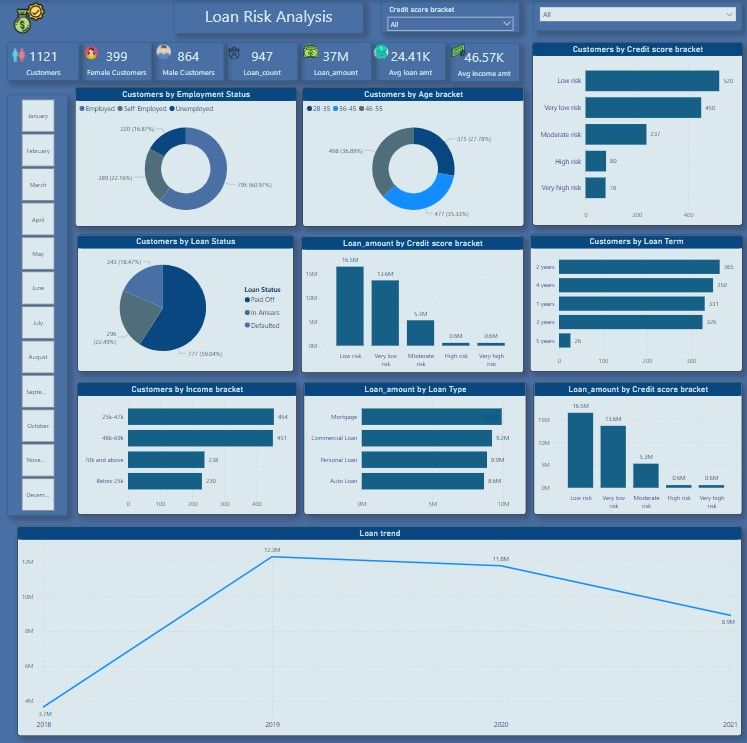

Layout of this report page (visuals, bound fields, positions):
{"tool":"powerbi","page":{"name":"Daiz Bank","canvas":[1500,1500],"ordinal":0},"visuals":[{"type":"donutChart","fields":{"Category":["loan dataset.Employment Status"],"Y":["loan measures.Customers"]},"box":[150,181.7,443.3,278.3],"z":0},{"type":"barChart","fields":{"Y":["loan measures.Customers"],"Category":["loan dataset.Credit score bracket"]},"box":[1065,93.3,420,366.7],"z":1000},{"type":"pieChart","fields":{"Category":["loan dataset.Loan Status"],"Y":["loan measures.Customers"]},"box":[155,478.3,431.7,273.3],"z":2000},{"type":"barChart","fields":{"Category":["loan dataset.Loan Type"],"Y":["loan measures.Loan_amount"]},"box":[608.3,773.3,445,265],"z":3000},{"type":"card","title":"Loan amount","fields":{"Values":["loan measures.Loan_amount"]},"box":[600,93.3,143.3,76.7],"z":4000},{"type":"card","fields":{"Values":["loan measures.Customers"]},"box":[15,93.3,143.3,76.7],"z":5000},{"type":"card","fields":{"Values":["loan measures.Loan_count"]},"box":[451.7,93.3,143.3,76.7],"z":6000},{"type":"card","fields":{"Values":["loan measures.Female Customers"]},"box":[161.7,93.3,141.7,76.7],"z":7000},{"type":"card","fields":{"Values":["loan measures.Male Customers"]},"box":[305,93.3,143.3,76.7],"z":8000},{"type":"clusteredColumnChart","fields":{"Category":["loan dataset.Credit score bracket"],"Y":["loan measures.Loan_amount"]},"box":[603.3,480,445,273.3],"z":9000},{"type":"barChart","fields":{"Category":["loan dataset.Loan Term"],"Y":["loan measures.Customers"]},"box":[1060,478.3,425,273.3],"z":10000},{"type":"barChart","fields":{"Category":["loan dataset.Income bracket"],"Y":["loan measures.Customers"]},"box":[155,773.3,438.3,265],"z":11000},{"type":"slicer","fields":{"Values":["loan dataset.Credit score bracket"]},"box":[761.7,10,276.7,63.3],"z":12000},{"type":"clusteredColumnChart","fields":{"Category":["loan dataset.Credit score bracket"],"Y":["loan measures.Loan_amount"]},"box":[1068.3,773.3,416.7,265],"z":13000},{"type":"card","fields":{"Values":["loan measures.Avg loan amt"]},"box":[750,93.3,141.7,76.7],"z":14000},{"type":"slicer","fields":{"Values":["loan dataset.Loan Origination Date.Variation.Date Hierarchy.Year","loan dataset.Loan Origination Date.Variation.Date Hierarchy.Month"]},"box":[1068.3,10,416.7,60],"z":15000},{"type":"textbox","box":[347.1,8.8,379.4,64.7],"z":16000},{"type":"image","box":[16.7,96.7,40,41.7],"z":17000},{"type":"image","box":[305,93.3,45,38.3],"z":18000},{"type":"image","box":[445.3,95,46.7,36.7],"z":19000},{"type":"image","box":[165,95,35,36.7],"z":20000},{"type":"image","box":[15,8.3,86.7,73.3],"z":21000},{"type":"image","box":[600,90,43.3,43.3],"z":22000},{"type":"donutChart","fields":{"Y":["loan measures.Customers"],"Series":["loan dataset.Age bracket"]},"box":[605,181.7,443.3,278.3],"z":23000},{"type":"card","fields":{"Values":["loan measures.Avg income amt"]},"box":[896.7,95,141.7,76.7],"z":24000},{"type":"image","box":[896.7,85,38.3,48.3],"z":25000},{"type":"image","box":[743.3,91.7,40,40],"z":26000},{"type":"slicer","fields":{"Values":["loan dataset.Loan Origination Date.Variation.Date Hierarchy.Month"]},"box":[16,198,120,842],"z":27000},{"type":"lineChart","title":"Loan trend","fields":{"Category":["loan dataset.Loan Origination Date.Variation.Date Hierarchy.Year","loan dataset.Loan Origination Date.Variation.Date Hierarchy.Quarter","loan dataset.Loan Origination Date.Variation.Date Hierarchy.Month","loan dataset.Loan Origination Date.Variation.Date Hierarchy.Day"],"Y":["loan measures.Loan_amount"]},"box":[36,1060,1448,420],"z":28000}]}

Visuals, with their boxes in screenshot pixels (x1, y1, x2, y2), scaled from the page's 1500x1500 canvas onto the 747x743 screenshot:
donutChart - loan dataset.Employment Status x loan measures.Customers: Rect(75, 90, 295, 228)
barChart - loan measures.Customers x loan dataset.Credit score bracket: Rect(530, 46, 740, 228)
pieChart - loan dataset.Loan Status x loan measures.Customers: Rect(77, 237, 292, 372)
barChart - loan dataset.Loan Type x loan measures.Loan_amount: Rect(303, 383, 525, 514)
"Loan amount" card: Rect(299, 46, 370, 84)
card - loan measures.Customers: Rect(7, 46, 79, 84)
card - loan measures.Loan_count: Rect(225, 46, 296, 84)
card - loan measures.Female Customers: Rect(81, 46, 151, 84)
card - loan measures.Male Customers: Rect(152, 46, 223, 84)
clusteredColumnChart - loan dataset.Credit score bracket x loan measures.Loan_amount: Rect(300, 238, 522, 373)
barChart - loan dataset.Loan Term x loan measures.Customers: Rect(528, 237, 740, 372)
barChart - loan dataset.Income bracket x loan measures.Customers: Rect(77, 383, 295, 514)
slicer - loan dataset.Credit score bracket: Rect(379, 5, 517, 36)
clusteredColumnChart - loan dataset.Credit score bracket x loan measures.Loan_amount: Rect(532, 383, 740, 514)
card - loan measures.Avg loan amt: Rect(374, 46, 444, 84)
slicer - loan dataset.Loan Origination Date.Variation.Date Hierarchy.Year x loan dataset.Loan Origination Date.Variation.Date Hierarchy.Month: Rect(532, 5, 740, 35)
textbox: Rect(173, 4, 362, 36)
image: Rect(8, 48, 28, 69)
image: Rect(152, 46, 174, 65)
image: Rect(222, 47, 245, 65)
image: Rect(82, 47, 100, 65)
image: Rect(7, 4, 51, 40)
image: Rect(299, 45, 320, 66)
donutChart - loan measures.Customers x loan dataset.Age bracket: Rect(301, 90, 522, 228)
card - loan measures.Avg income amt: Rect(447, 47, 517, 85)
image: Rect(447, 42, 466, 66)
image: Rect(370, 45, 390, 65)
slicer - loan dataset.Loan Origination Date.Variation.Date Hierarchy.Month: Rect(8, 98, 68, 515)
"Loan trend" lineChart: Rect(18, 525, 739, 733)
